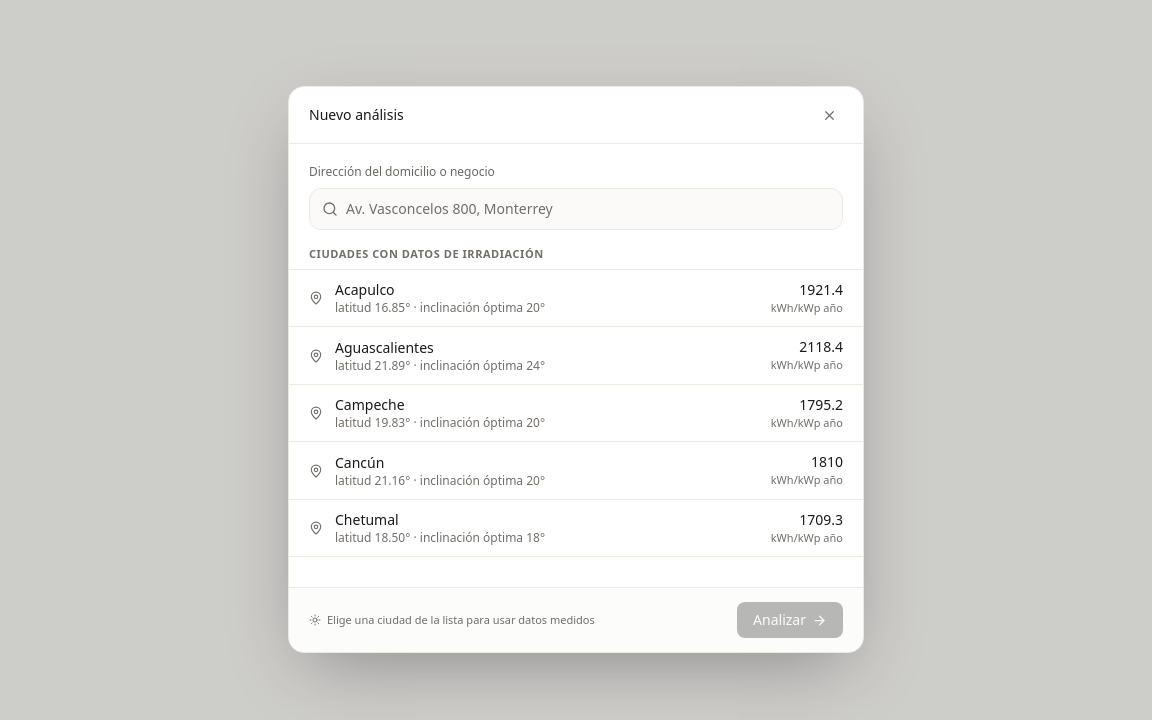
Scenario: el diálogo de nuevo análisis › una dirección de una ciudad sin datos lo dice en vez de fingir
The image size is (1152, 720).
Type "Calle 5, Villa Inexistente" into the dropdown labelled "Dirección del domicilio o negocio" at [588, 209], box left=346, top=199, right=830, bottom=219
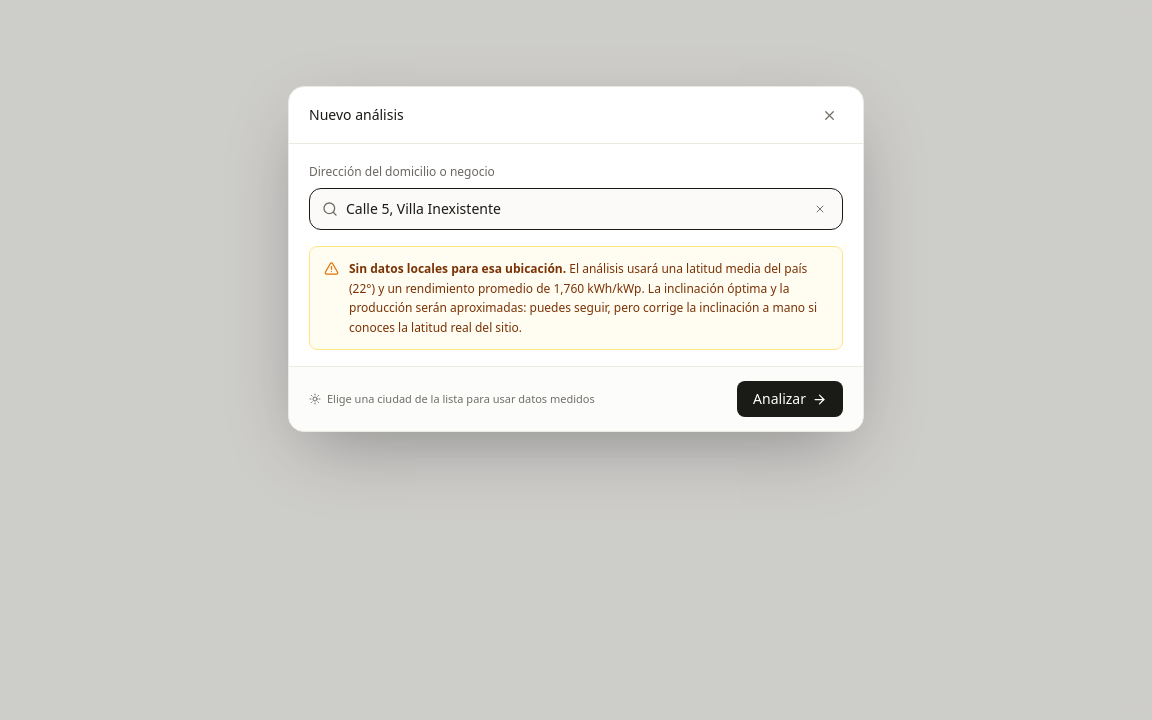
Expected: no options are shown
